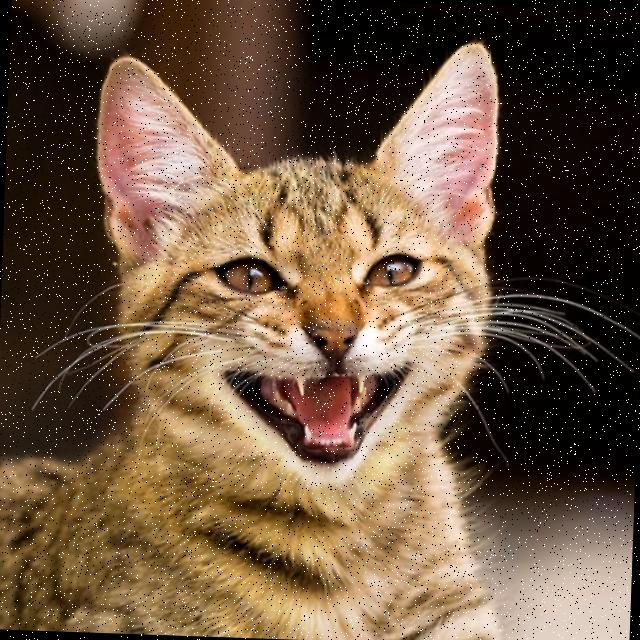Angry: (150, 218, 452, 498)
